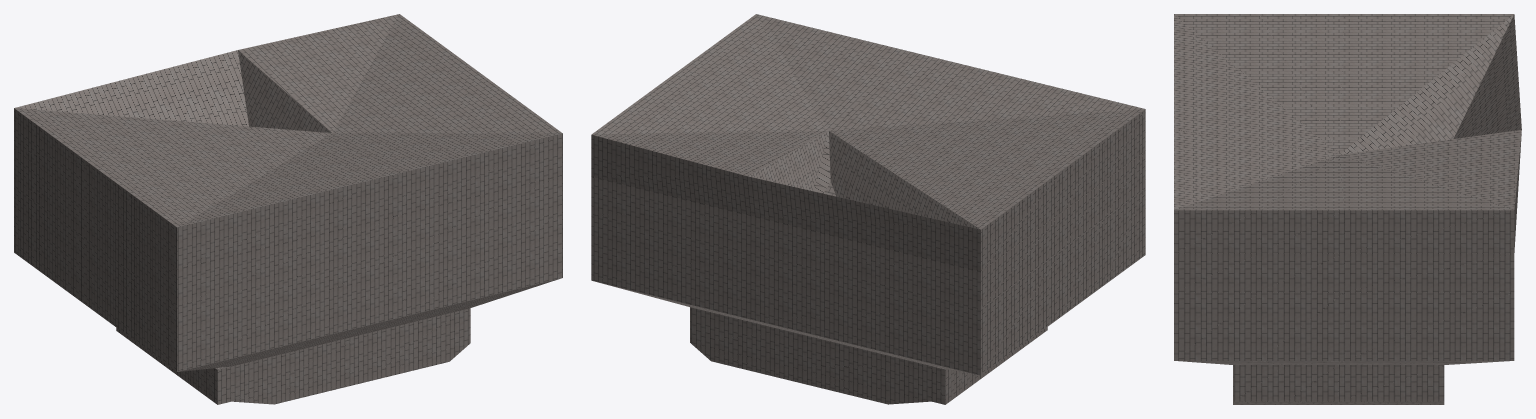
File: crypt.fbx
3 views of the same model, side by side, from view 1: azimuth 30°, elevation 25°; view 2: azimuth 150°, elevation 25°; view 3: azimuth 270°, elevation 25° (orthographic). The views are drawn at different scales.
Visible parts, largest first — view 1: Crypt; view 2: Crypt; view 3: Crypt.
Part boxes in pixels (x1,y1,x2,y2): Crypt: (14, 14, 562, 404); Crypt: (591, 14, 1145, 404); Crypt: (1174, 14, 1521, 404).
Size of the model in its own units: 6038 by 3415 by 4523.
1 material, 1 textured.
